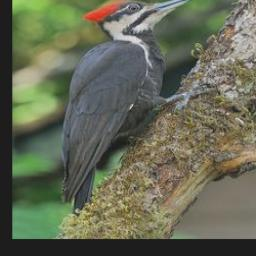Woodpecker: (47, 0, 215, 217)
